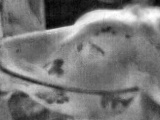eye: (82, 37, 114, 57)
